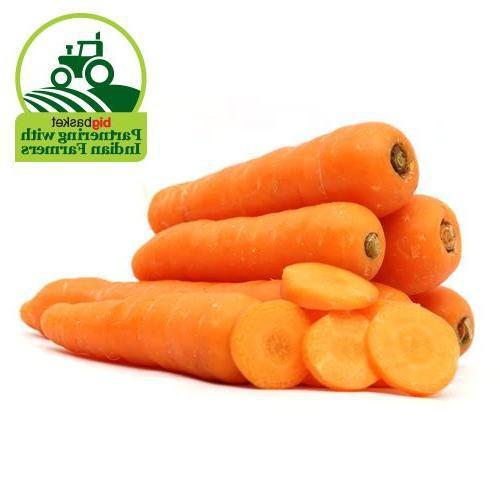carrot: (6, 246, 500, 403), (124, 163, 500, 312)
